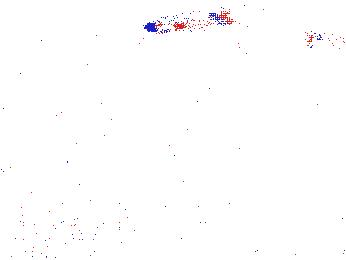red belly glassfish: (205, 49, 254, 71)
redtail glassfish: (145, 6, 229, 36), (304, 25, 346, 51)
